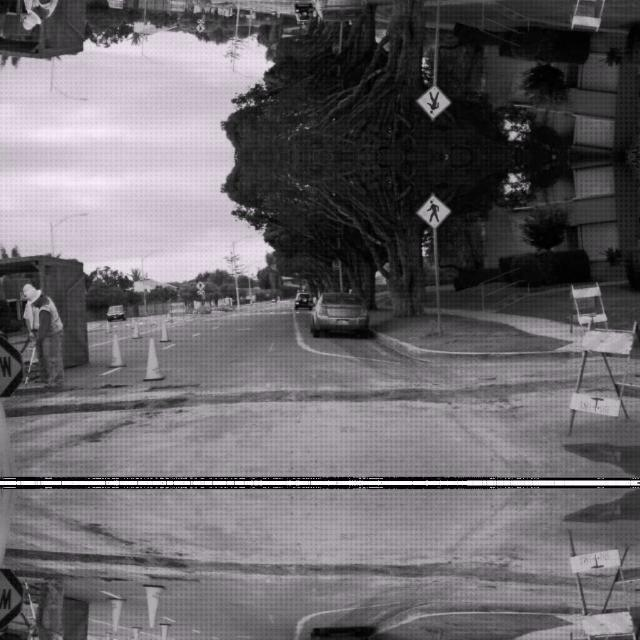pedestrianCrossing: (415, 192, 451, 228), (415, 84, 451, 120), (194, 278, 206, 290), (194, 22, 206, 34)
